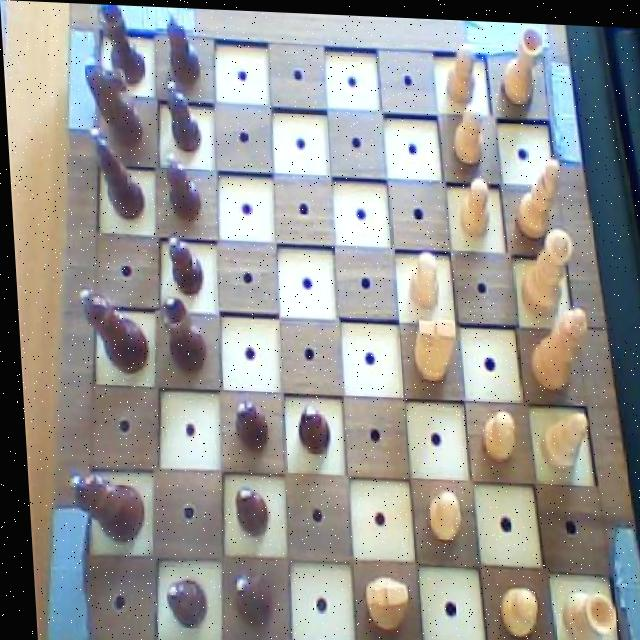bishop: (85, 121, 145, 224), (223, 562, 270, 627)
black-bishop: (59, 466, 142, 543)
black-king: (81, 55, 146, 152)
black-knight: (160, 73, 205, 153), (160, 145, 202, 223), (160, 6, 201, 85), (163, 230, 202, 300), (155, 573, 202, 630), (224, 482, 267, 542), (289, 397, 330, 458), (228, 396, 266, 455)
black-pawn: (73, 283, 149, 381)
black-queen: (155, 294, 207, 377), (96, 3, 146, 88)
black-rook: (509, 147, 565, 238), (530, 399, 586, 470)
white-bishop: (519, 296, 591, 391)
white-king: (403, 306, 459, 385), (352, 567, 405, 633)
white-knight: (447, 94, 489, 168), (489, 578, 534, 640), (400, 244, 442, 310), (417, 483, 460, 545), (475, 402, 516, 465), (453, 171, 492, 236), (441, 37, 479, 101)
white-pawn: (511, 221, 578, 316)
white-queen: (497, 19, 550, 108), (548, 581, 615, 640)
